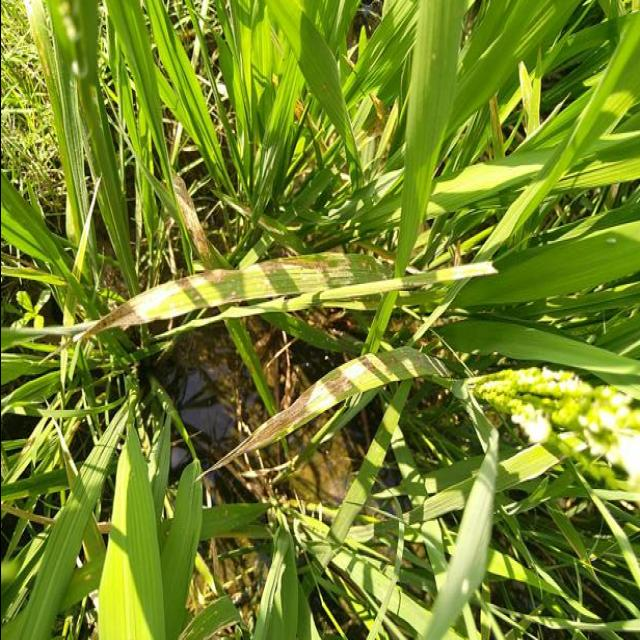Leaf Streak: (195, 353, 411, 479), (85, 252, 374, 334), (170, 169, 208, 259)
